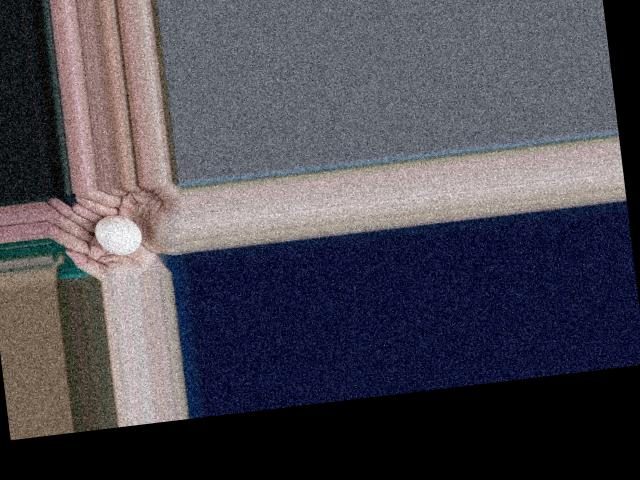egg: (93, 213, 142, 256)
